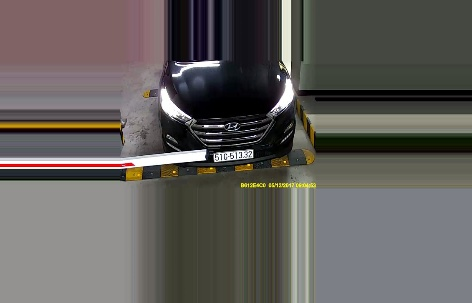plate: (213, 145, 255, 164)
